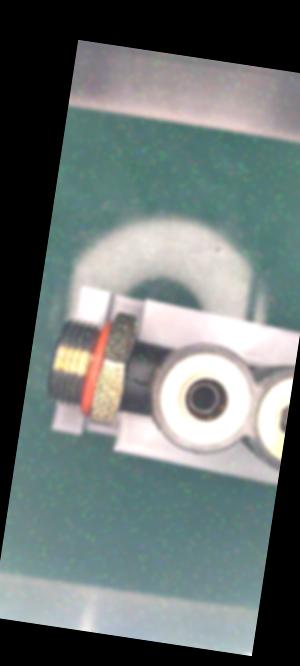craze: (125, 374, 152, 389)
